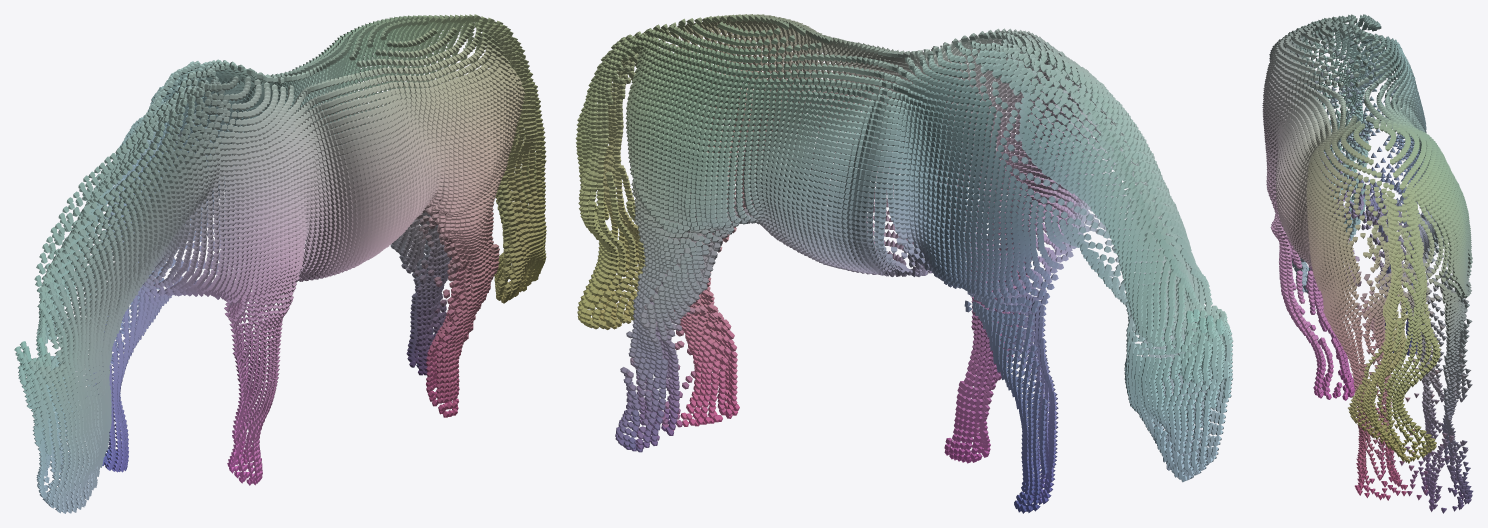
The model's file is 2009_000793_1_pcan.glb.
3 views of the same model, side by side, from view 1: azimuth 30°, elevation 25°; view 2: azimuth 150°, elevation 25°; view 3: azimuth 270°, elevation 25° (orthographic). The views are drawn at different scales.
Parts seen in each view (by area): view 1: target; view 2: target; view 3: target.
Boxes of the visible parts, x1,y1,x2,y2 form: target: (14,14,546,513); target: (575,14,1233,513); target: (1262,14,1473,513).
Bounding box in the file's own units: 2.46 × 1.73 × 0.8956.
